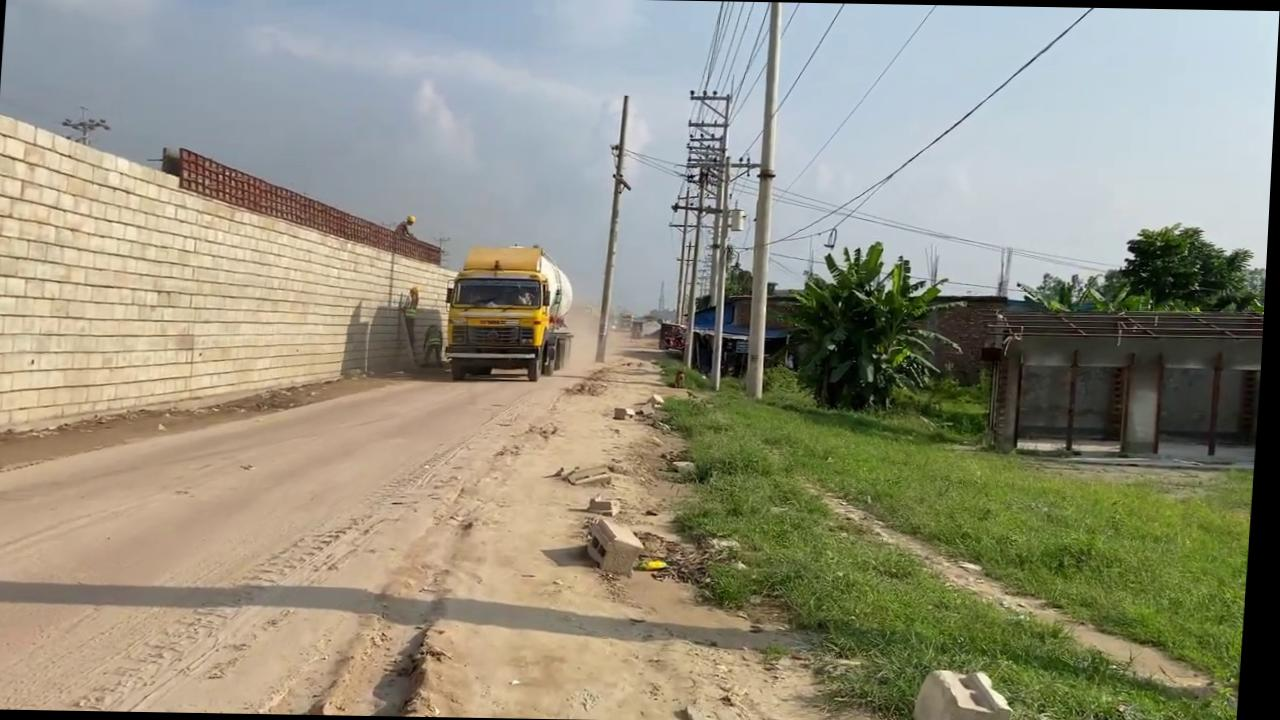Muddy road: (0, 301, 905, 720)
Obstacle: (589, 514, 652, 576)
Pole: (745, 2, 790, 400), (597, 93, 631, 362)
Traffic-sign: (781, 238, 973, 414), (1103, 220, 1270, 314)
Tree: (443, 242, 582, 382)
Upstairs: (0, 111, 471, 449)
